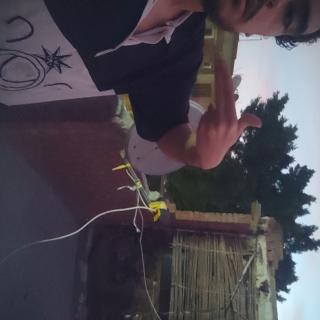GHAYN: (39, 72, 130, 173)
